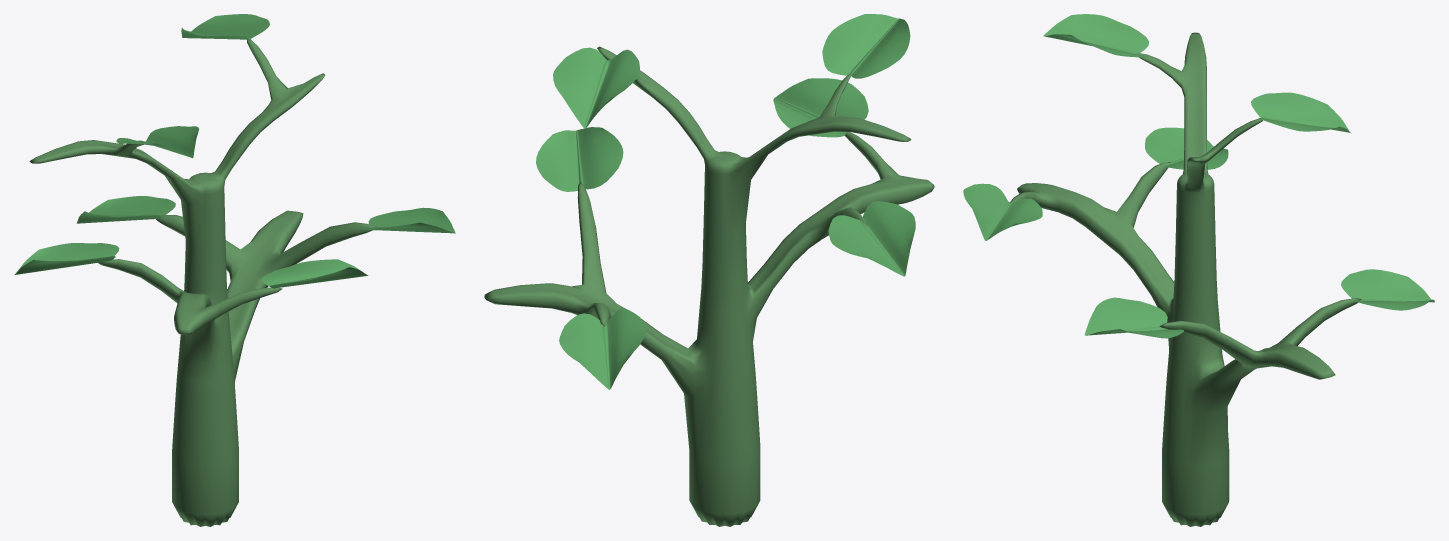
Rendered from plant.fbx.
3 views of the same model, side by side, from view 1: azimuth 30°, elevation 25°; view 2: azimuth 150°, elevation 25°; view 3: azimuth 270°, elevation 25° (orthographic). The views are drawn at different scales.
Parts seen in each view (by area): view 1: pCylinder1, pPlane3, pPlane5, pPlane6, pPlane4, pPlane2, pPlane1; view 2: pCylinder1, pPlane1, pPlane4, pPlane2, pPlane3, pPlane6, pPlane5; view 3: pCylinder1, pPlane1, pPlane2, pPlane6, pPlane4, pPlane5, pPlane3.
Boxes of the visible parts, x1=… form: pCylinder1: x1=29, y1=39, x2=376, y2=526; pPlane3: x1=14, y1=243, x2=119, y2=274; pPlane5: x1=261, y1=259, x2=368, y2=288; pPlane6: x1=76, y1=196, x2=175, y2=223; pPlane4: x1=353, y1=207, x2=455, y2=233; pPlane2: x1=181, y1=14, x2=269, y2=39; pPlane1: x1=116, y1=126, x2=199, y2=158; pCylinder1: x1=484, y1=46, x2=934, y2=526; pPlane1: x1=822, y1=14, x2=910, y2=78; pPlane4: x1=536, y1=127, x2=623, y2=191; pPlane2: x1=553, y1=47, x2=639, y2=128; pPlane3: x1=828, y1=201, x2=915, y2=276; pPlane6: x1=559, y1=308, x2=646, y2=389; pPlane5: x1=773, y1=78, x2=868, y2=137; pCylinder1: x1=1009, y1=32, x2=1361, y2=526; pPlane1: x1=1043, y1=14, x2=1148, y2=57; pPlane2: x1=1251, y1=92, x2=1350, y2=132; pPlane6: x1=1341, y1=269, x2=1434, y2=310; pPlane4: x1=1084, y1=297, x2=1183, y2=338; pPlane5: x1=963, y1=183, x2=1042, y2=240; pPlane3: x1=1145, y1=127, x2=1228, y2=169.
Size of the model in its own units: 4.24 by 4.73 by 4.52.
